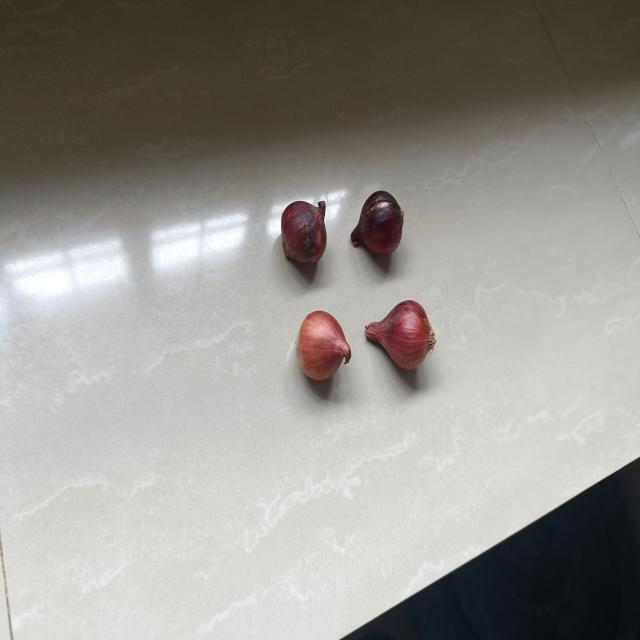onion: (363, 296, 438, 374), (293, 308, 353, 384), (349, 186, 404, 261), (279, 196, 329, 270)
